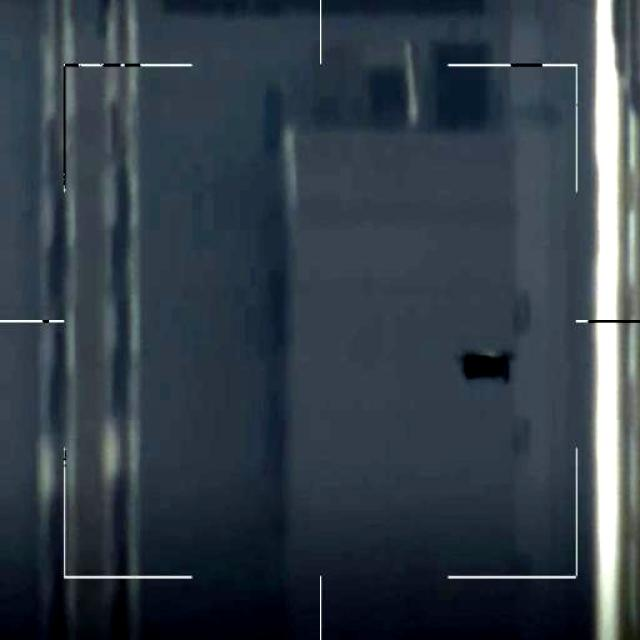bird: (462, 345, 512, 382)
